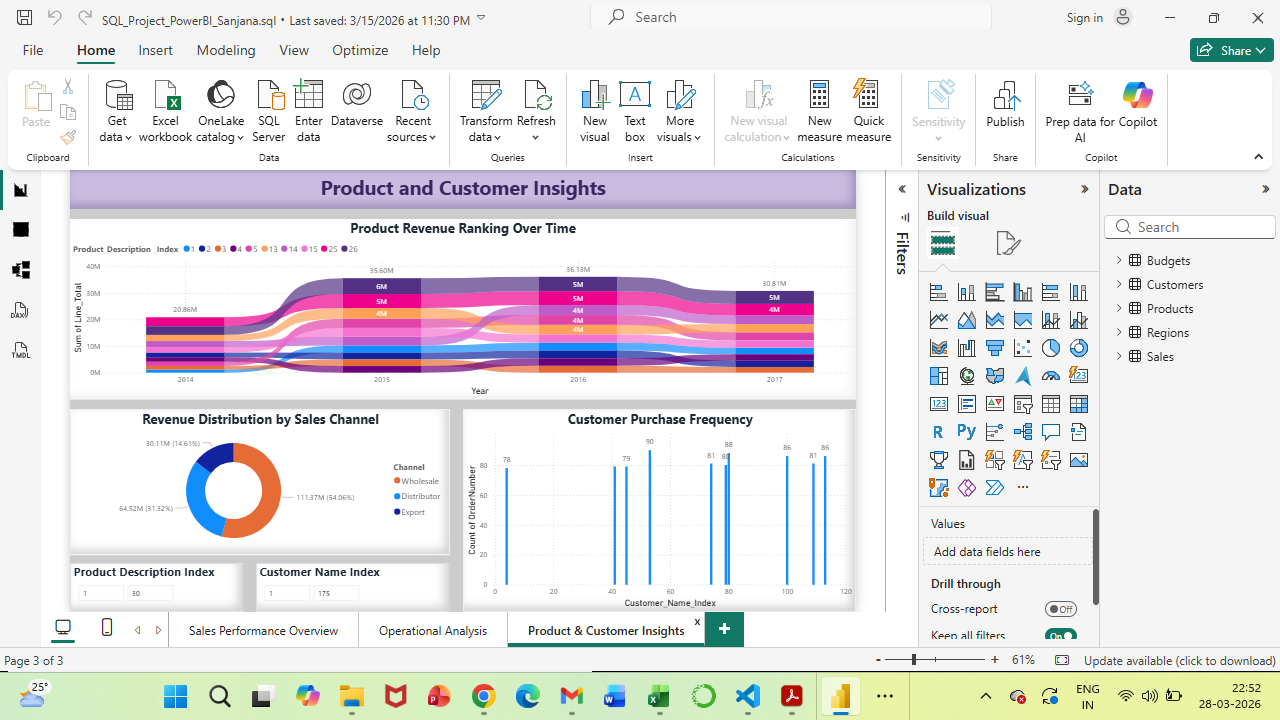

This screenshot's page, from the dashboard's own definition file:
{"tool":"powerbi","page":{"name":"Product & Customer Insights","canvas":[1280,720],"ordinal":2},"visuals":[{"type":"ribbonChart","title":"Product Revenue Ranking Over Time","fields":{"Category":["Sales.OrderDate.Variation.Date Hierarchy.Year","Sales.OrderDate.Variation.Date Hierarchy.Quarter","Sales.OrderDate.Variation.Date Hierarchy.Month","Sales.OrderDate.Variation.Date Hierarchy.Day"],"Y":["Sum(Sales.Line_Total)"],"Series":["Sales.Product_Description _Index"]},"box":[0,79.6,1280.7,293.6],"z":0},{"type":"donutChart","title":"Revenue Distribution by Sales Channel","fields":{"Category":["Sales.Channel"],"Y":["Sales.Total Sales"]},"box":[0,389.3,619,237.8],"z":1000},{"type":"clusteredColumnChart","title":"Customer Purchase Frequency","fields":{"Category":["Sales.Customer_Name_Index"],"Y":["CountNonNull(Sales.OrderNumber)"]},"box":[640.4,389.9,640.4,330.1],"z":2000},{"type":"slicer","title":"Product Description Index","fields":{"Values":["Sales.Product_Description _Index"]},"box":[0,640.4,282,79.6],"z":8000},{"type":"slicer","title":"Customer Name Index","fields":{"Values":["Sales.Customer_Name_Index"]},"box":[303.6,640.4,315.2,79.6],"z":9000},{"type":"textbox","box":[0,0,1280.7,63],"z":10000}]}

Visuals, with their boxes on the page's 1280x720 design canvas (x1, y1, x2, y2). These are canvas units, not pixel positions in the 1280x720 screenshot, which may show the page scaled, cropped or inside an application window:
"Product Revenue Ranking Over Time" ribbonChart: locate(0, 80, 1281, 373)
"Revenue Distribution by Sales Channel" donutChart: locate(0, 389, 619, 627)
"Customer Purchase Frequency" clusteredColumnChart: locate(640, 390, 1281, 720)
"Product Description Index" slicer: locate(0, 640, 282, 720)
"Customer Name Index" slicer: locate(304, 640, 619, 720)
textbox: locate(0, 0, 1281, 63)
